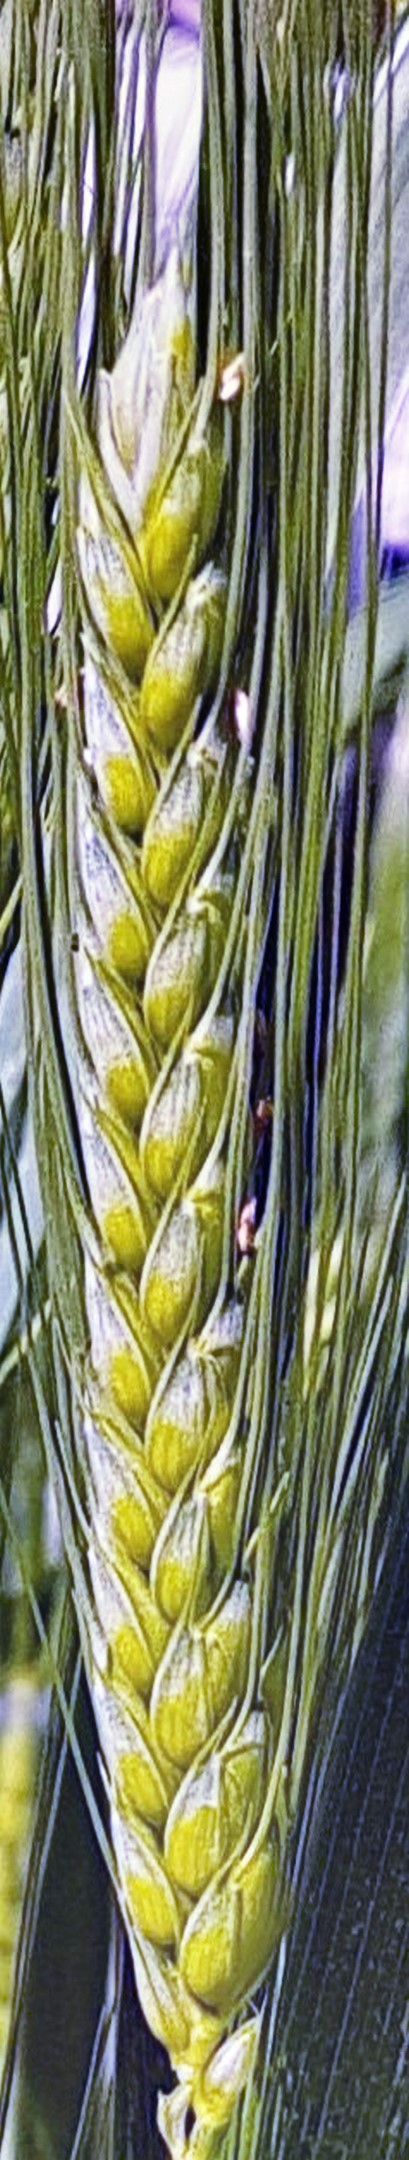Healthy Wheat: (14, 302, 335, 2057)
